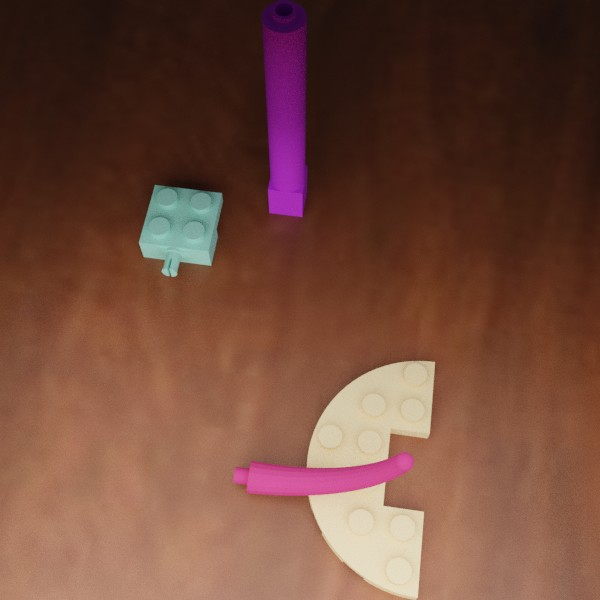lego: (306, 361, 435, 600), (261, 0, 307, 216), (233, 452, 414, 495), (138, 185, 223, 276)
